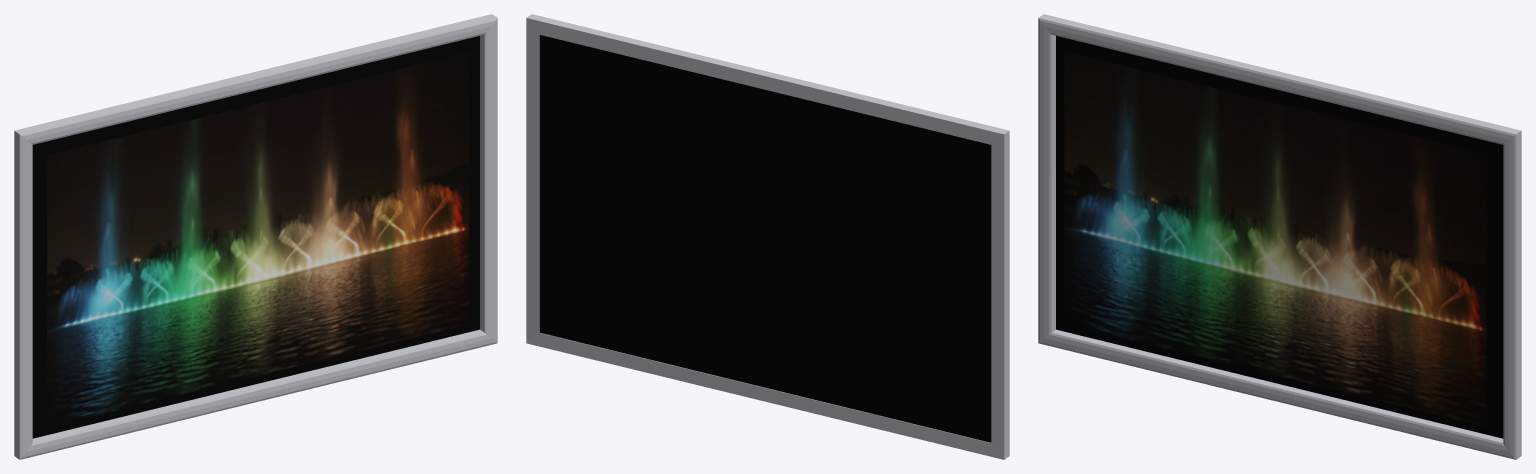
The model's file is sweethome3d-contributions-frame-colored-fountain-282.glb.
3 renders of one model, left to right at view 1: azimuth 30°, elevation 25°; view 2: azimuth 150°, elevation 25°; view 3: azimuth 330°, elevation 25°, orthographic.
Visible parts, largest first — view 1: Photo_Cube_Material_ColoredFountain, MetalFrame_Cylinder_Aluminium.001, Frame_Black_Material.002; view 2: Frame_Black_Material.002, MetalFrame_Cylinder_Aluminium.001; view 3: Photo_Cube_Material_ColoredFountain, MetalFrame_Cylinder_Aluminium.001, Frame_Black_Material.002.
Part boxes in pixels (bbox=[...]): Photo_Cube_Material_ColoredFountain: bbox=[46, 52, 469, 427]; MetalFrame_Cylinder_Aluminium.001: bbox=[14, 14, 497, 459]; Frame_Black_Material.002: bbox=[32, 36, 479, 438]; Frame_Black_Material.002: bbox=[539, 35, 991, 442]; MetalFrame_Cylinder_Aluminium.001: bbox=[526, 14, 1009, 459]; Photo_Cube_Material_ColoredFountain: bbox=[1064, 51, 1486, 426]; MetalFrame_Cylinder_Aluminium.001: bbox=[1038, 14, 1521, 459]; Frame_Black_Material.002: bbox=[1056, 36, 1503, 438].
Bounding box in the file's own units: 73.53 × 47.86 × 1.6.
Materials: 3 (1 with a texture image).
